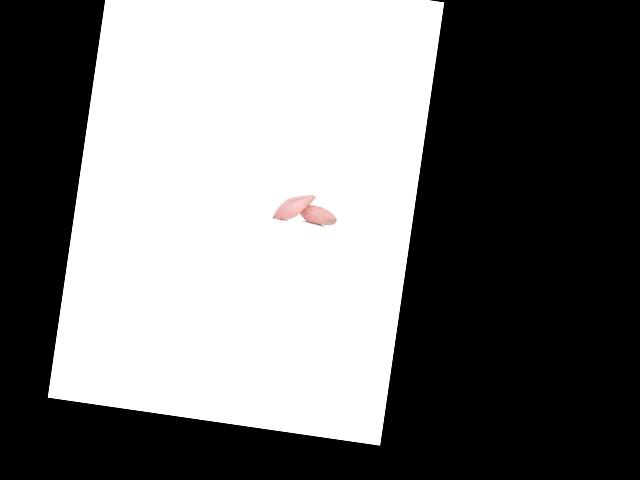sweet_potato: (295, 200, 339, 227)
